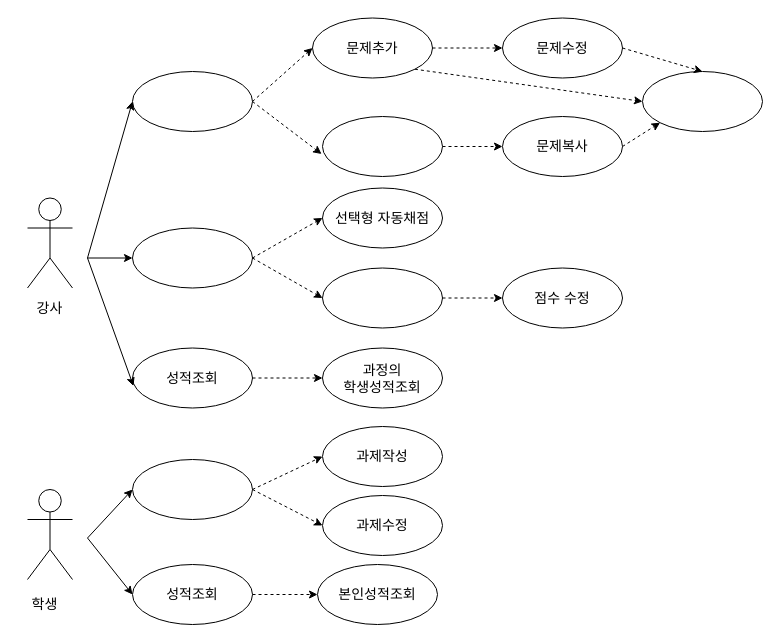
The diagram is 780 pixels wide and 642 high, and some of its shapes have lost their labels. Here are the shapes that lost their labels. From the top down, the centre of each, then its label:
At (192,101): "과제등록".
At (702,101): "과제에 문제 등록".
At (382,146): "과목유형, 과제유형 동일한 과제조회".
At (192,257): "과제채점".
At (382,297): "서술형 채점/ 점수 등록".
At (192,489): "과제제출".
